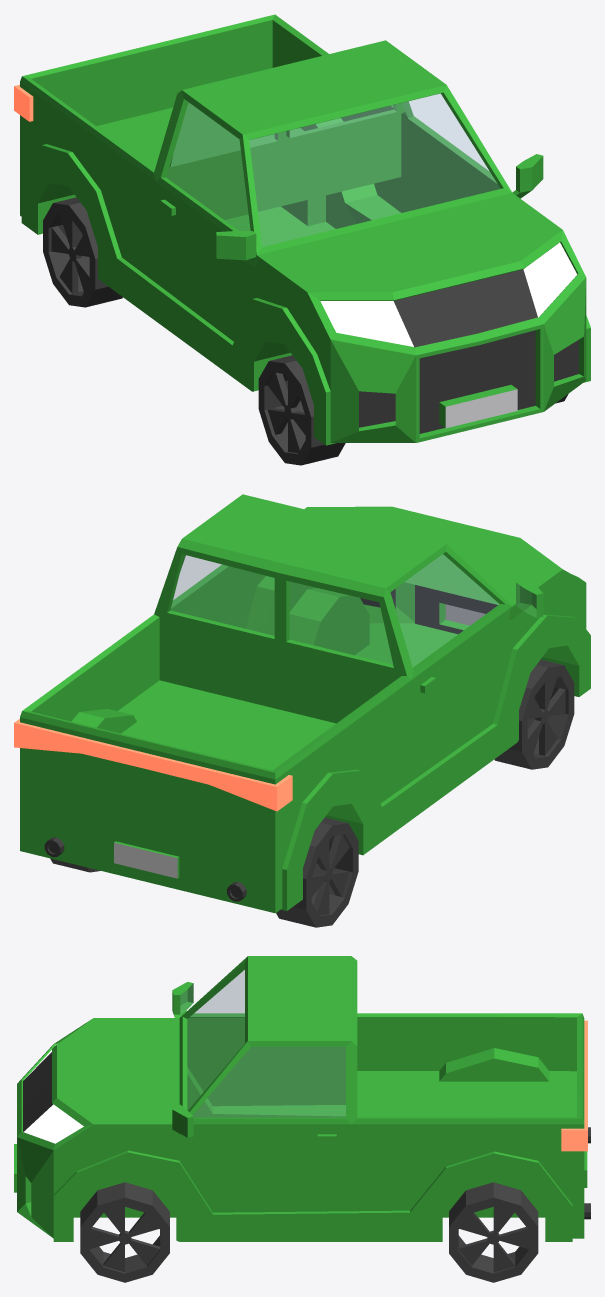
File: pickup.glb
3 views of the same model, one above another, from view 1: azimuth 30°, elevation 25°; view 2: azimuth 150°, elevation 25°; view 3: azimuth 270°, elevation 25° (orthographic). The views are drawn at different scales.
Parts seen in each view (by area): view 1: Pickup, Pickup wheel front right, Pickup wheel rear right; view 2: Pickup, Pickup wheel rear right, Pickup wheel front right; view 3: Pickup, Pickup wheel rear left, Pickup wheel front left.
Boxes of the visible parts, x1,y1,x2,y2 form: Pickup: (14, 14, 590, 445); Pickup wheel front right: (258, 355, 345, 465); Pickup wheel rear right: (43, 197, 122, 307); Pickup: (14, 494, 590, 913); Pickup wheel rear right: (276, 817, 358, 927); Pickup wheel front right: (494, 659, 574, 769); Pickup: (14, 956, 590, 1241); Pickup wheel rear left: (449, 1182, 538, 1282); Pickup wheel front left: (80, 1182, 169, 1282).
Size of the model in its own units: 2.81 by 2.21 by 5.04.
